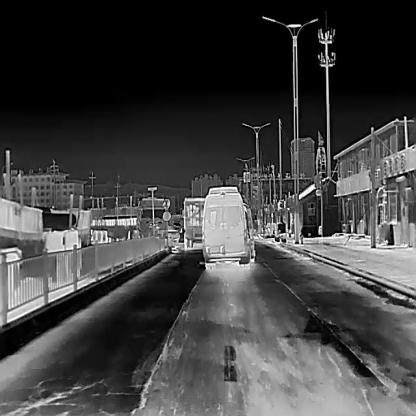car: (202, 183, 254, 263)
truck: (183, 198, 210, 248), (137, 198, 167, 242)
